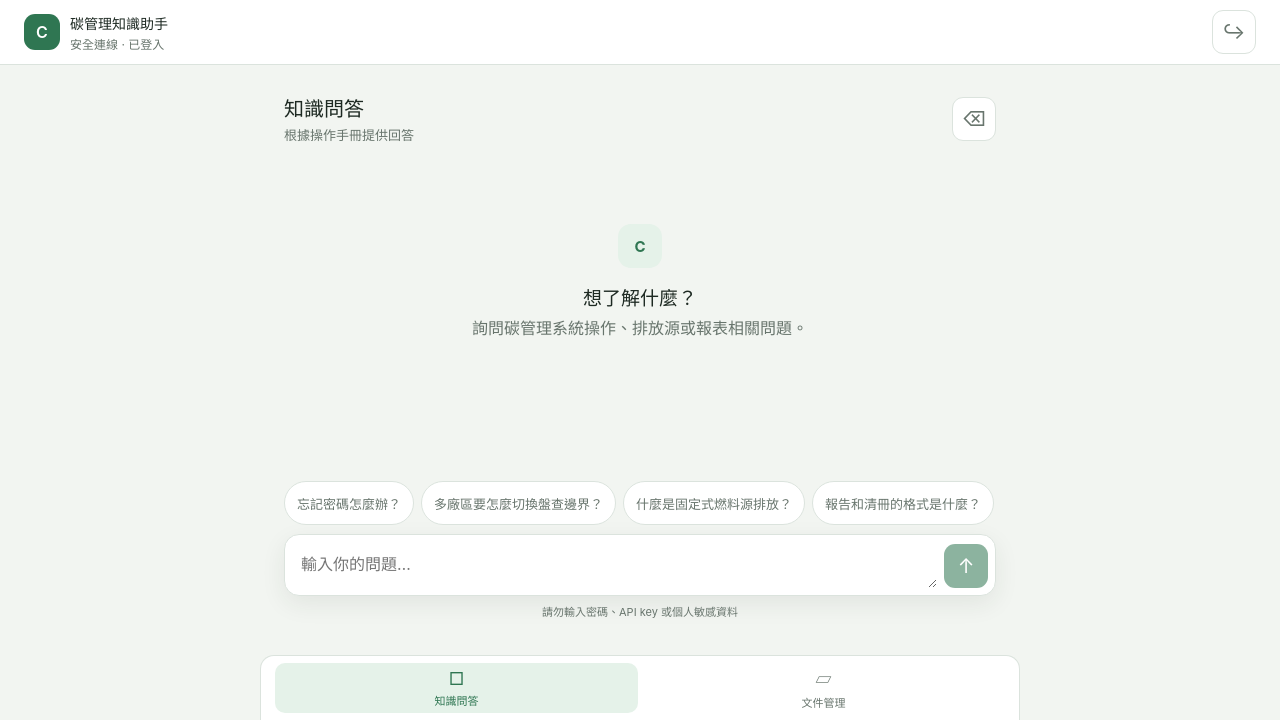
Test case: chat acceptance › renders answer, sources and timing
Type "問題" into the text box named "輸入問題" at (614,565), box [292,542,937,588]
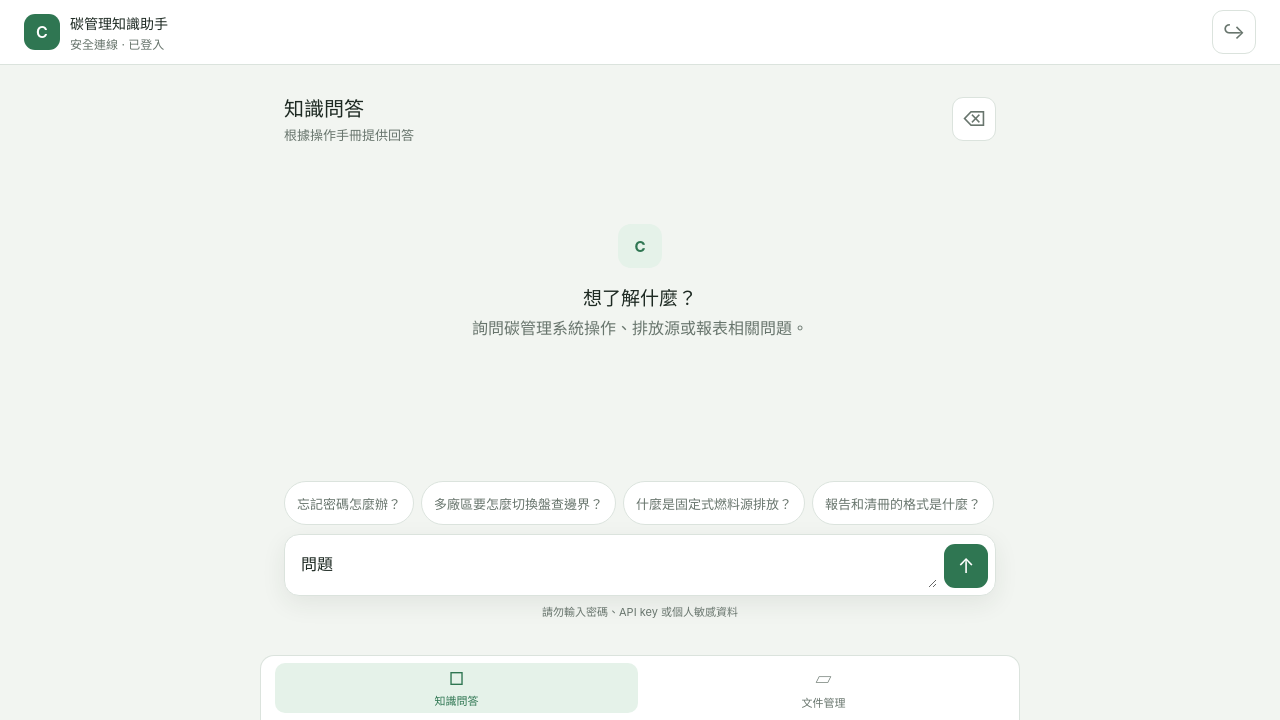
Click the button named "送出問題" at (966,566), box [944,544,988,588]
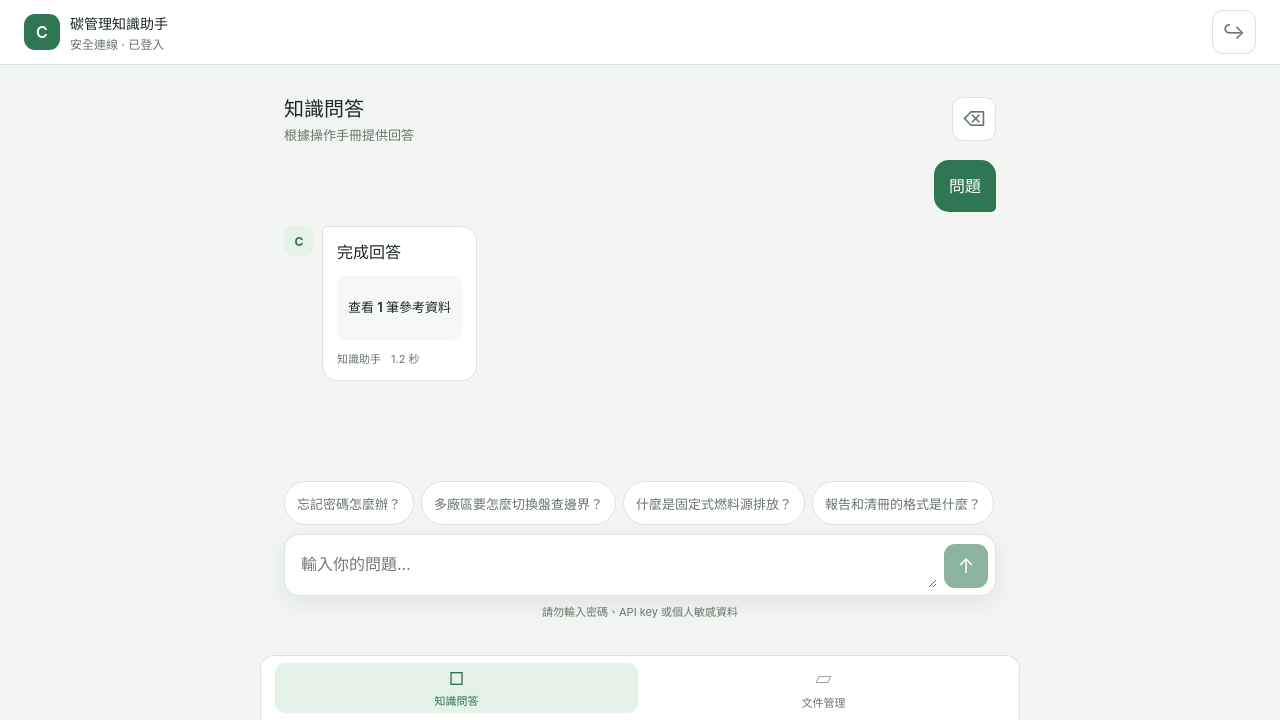
Expected: the text "完成回答" is shown, [337,242,401,262]
Expected: the heading "查看 1 筆參考資料" is shown, [348,299,451,315]
Expected: the text "1.2 秒" is shown, [391,350,420,368]
